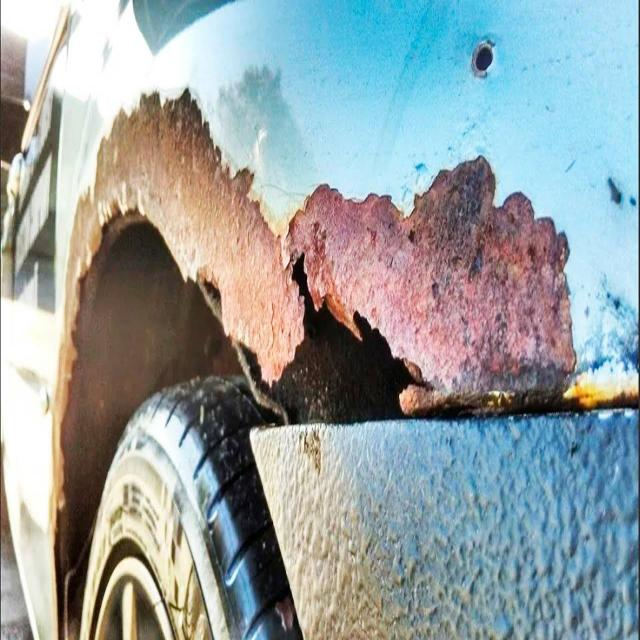Uniform Corrosion: (48, 90, 638, 630), (56, 90, 638, 569)
